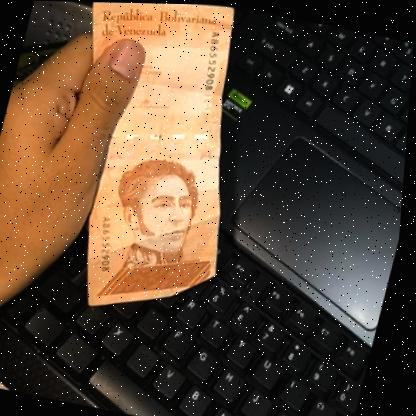twenty-front-vef: (20, 1, 281, 329)
